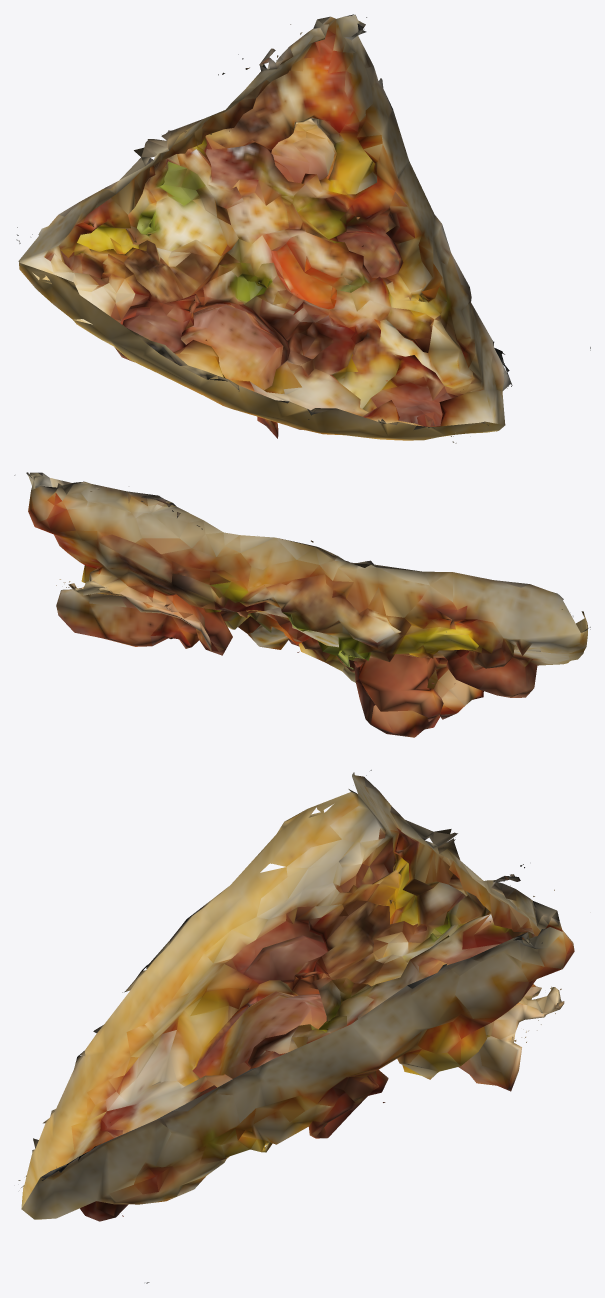
The model's file is pizza_3550.obj.
The picture shows the model from 3 angles, top to bottom: view 1: azimuth 30°, elevation 25°; view 2: azimuth 150°, elevation 25°; view 3: azimuth 270°, elevation 25°; orthographic projection. The views are drawn at different scales.
Size of the model in its own units: 1.61 by 0.8398 by 1.27.
Materials: 1 (1 with a texture image).
